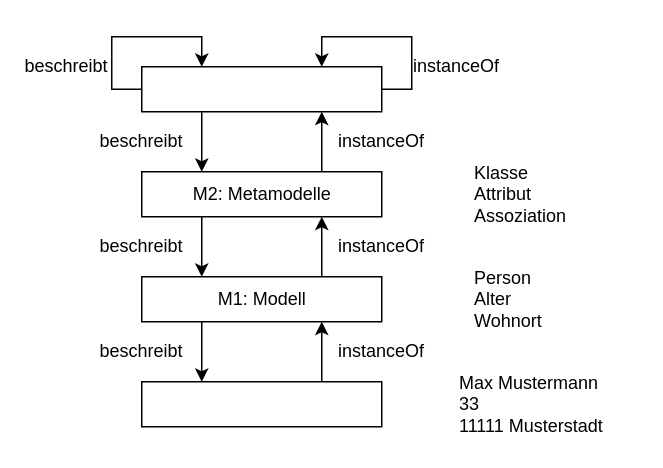
Image size: 663x468. Some labels were removed from this diagram. Each missing label, with the centre of its shape:
"M0: Instanz" belongs at point 261,403.
"M3: Meta-Metamodelle" belongs at point 261,88.
